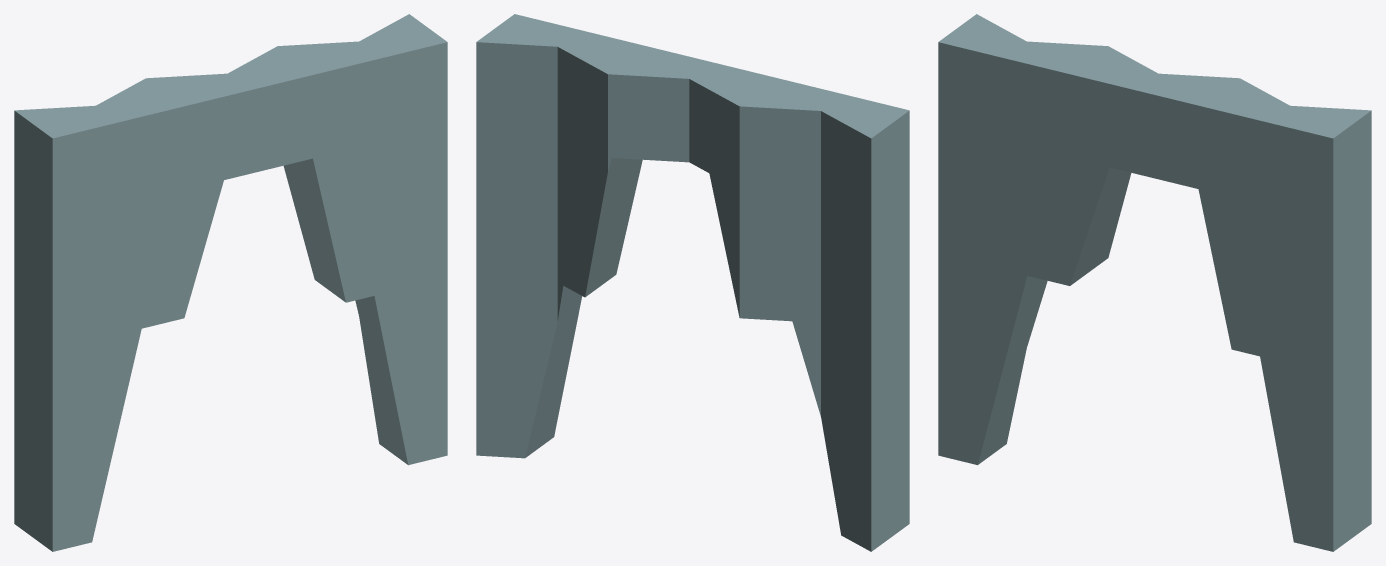
File: cliff_cave_stone.glb
3 views of the same model, side by side, from view 1: azimuth 30°, elevation 25°; view 2: azimuth 150°, elevation 25°; view 3: azimuth 330°, elevation 25° (orthographic).
Parts seen in each view (by area): view 1: cliff_cave_stone; view 2: cliff_cave_stone; view 3: cliff_cave_stone.
Part boxes in pixels (x1,y1,x2,y2): cliff_cave_stone: (14, 14, 447, 551); cliff_cave_stone: (476, 14, 909, 551); cliff_cave_stone: (938, 14, 1371, 551).
Size of the model in its own units: 1.2 by 1.2 by 0.2022.
